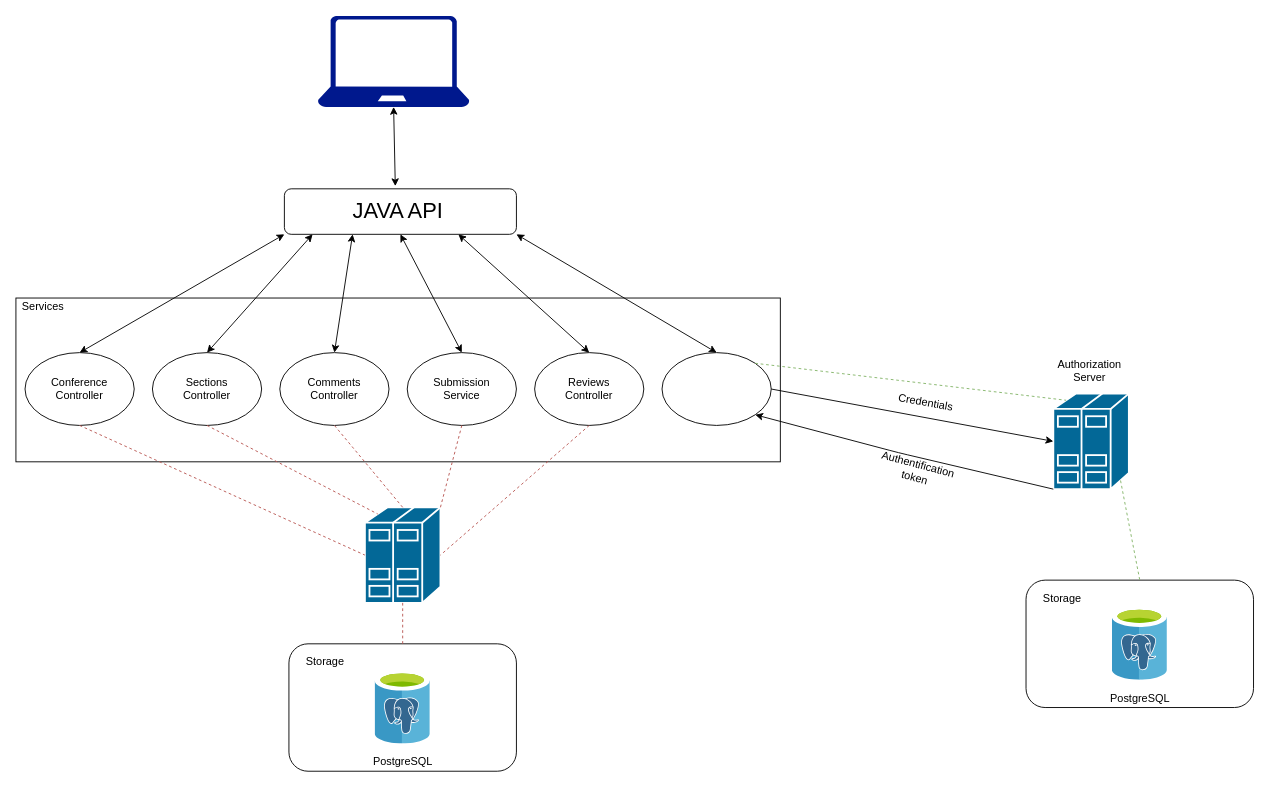
The diagram is 1269 pixels wide and 787 high, and some of its shapes have lost their labels. The shapes that lost their labels are listed below. From the top down, each one's centre as x and y in pixels, then its label:
At (x=393, y=60): "JAVA application".
At (x=716, y=388): "User Service".
